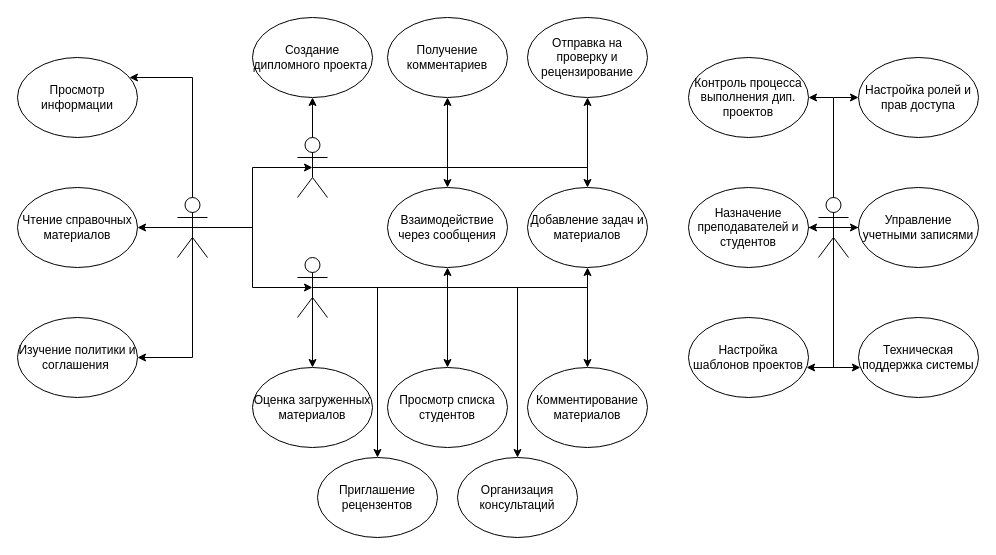
Image size: 996x555. Some labels were removed from this diagram. Each missing label, with the box of its shape:
Администратор: (818, 196, 848, 258)
Гость: (176, 196, 208, 258)
Преподователь: (296, 256, 328, 318)
Студент: (296, 136, 328, 198)
